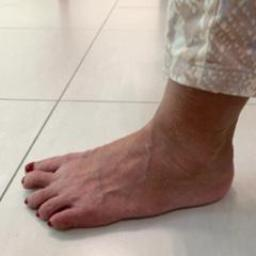Lateral View -Left Foot-: (6, 91, 248, 242)
